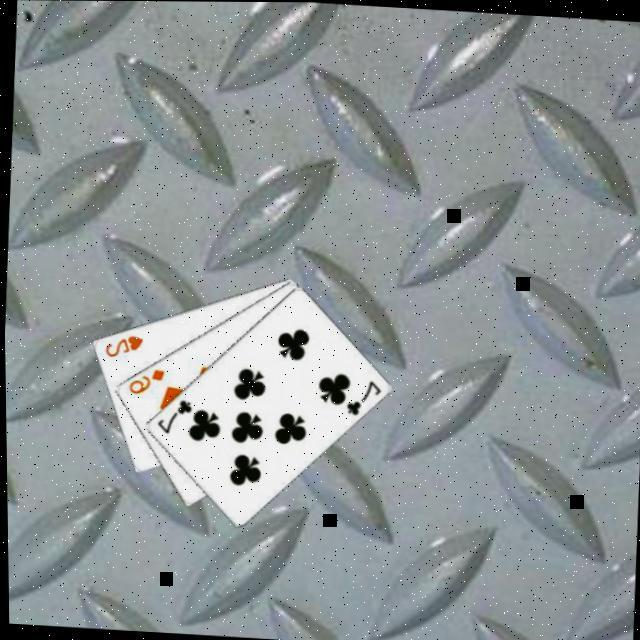2H: (99, 332, 142, 362)
7C: (338, 376, 381, 420), (150, 396, 193, 438)
9D: (120, 365, 164, 399)
